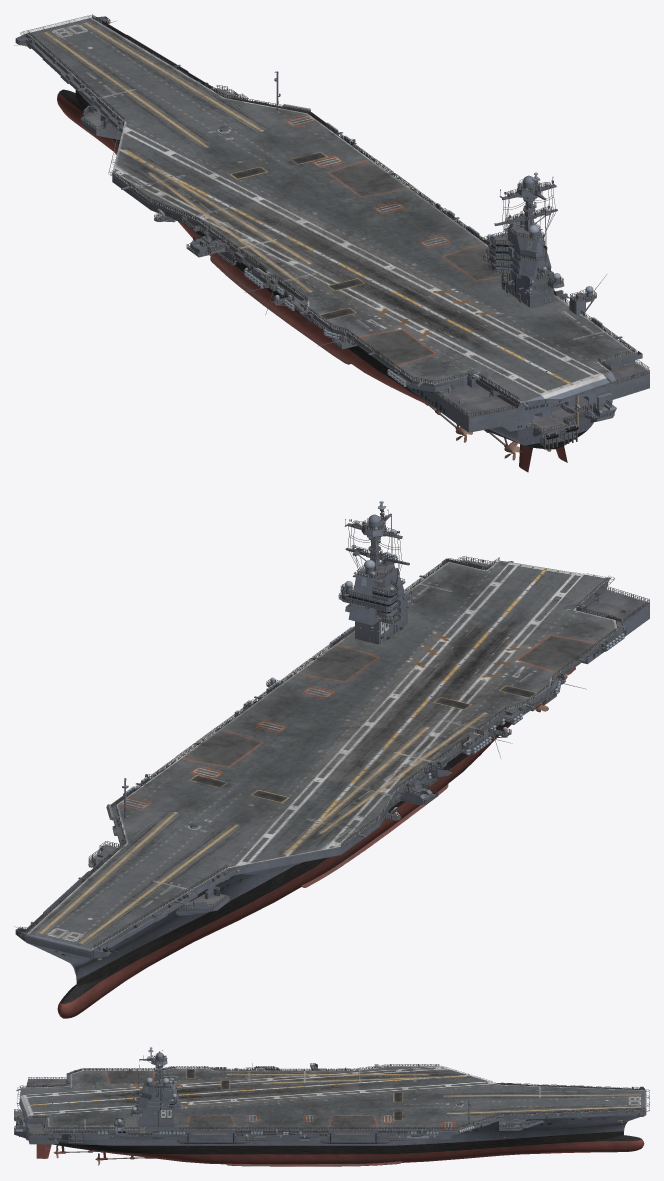
The model's file is enterprise.glb.
3 views of the same model, one above another, from view 1: azimuth 30°, elevation 25°; view 2: azimuth 150°, elevation 25°; view 3: azimuth 270°, elevation 25° (orthographic). The views are drawn at different scales.
Visible parts, largest first — view 1: Object_2, Object_3; view 2: Object_2, Object_3; view 3: Object_2, Object_3.
Boxes of the visible parts, bbox=[...] form: Object_2: bbox=[14, 16, 649, 472]; Object_3: bbox=[18, 14, 649, 443]; Object_2: bbox=[14, 501, 649, 1018]; Object_3: bbox=[19, 509, 649, 953]; Object_2: bbox=[14, 1047, 646, 1166]; Object_3: bbox=[14, 1054, 649, 1141].
Size of the model in its own units: 97.93 by 76.66 by 337.
2 materials, 2 textured.
